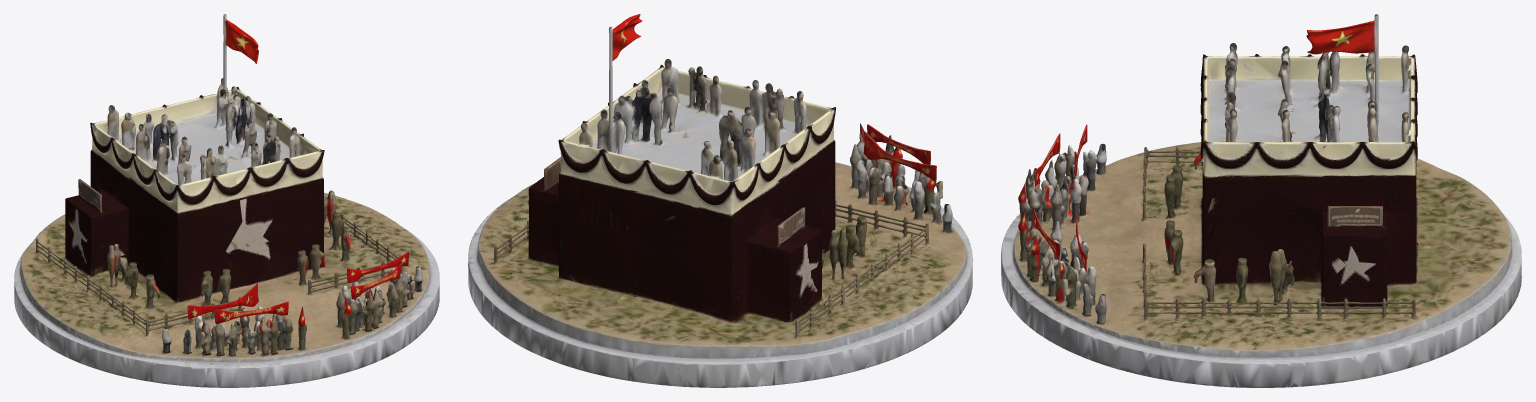
Rendered from bac_ho_tuyen_ngon.glb.
3 views of the same model, side by side, from view 1: azimuth 30°, elevation 25°; view 2: azimuth 150°, elevation 25°; view 3: azimuth 270°, elevation 25° (orthographic). The views are drawn at different scales.
Visible parts, largest first — view 1: Mesh_0; view 2: Mesh_0; view 3: Mesh_0.
Part boxes in pixels (x1,y1,x2,y2): Mesh_0: [14, 14, 439, 387]; Mesh_0: [468, 14, 972, 387]; Mesh_0: [1001, 14, 1521, 387].
Bounding box in the file's own units: 1.9 × 1.17 × 1.9.
Materials: 1 (1 with a texture image).
